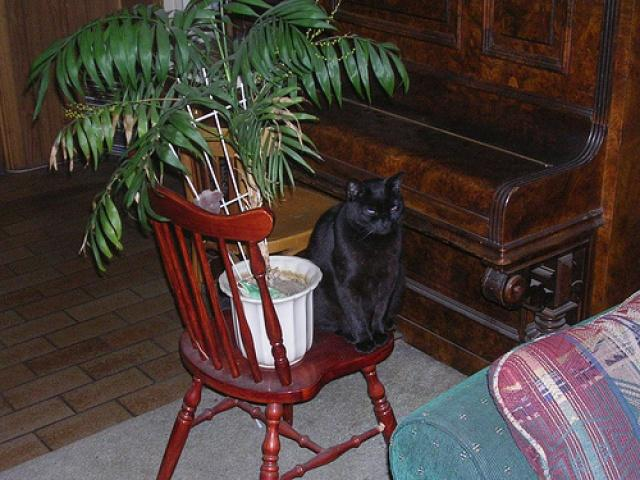Kursi: (140, 182, 397, 479)
